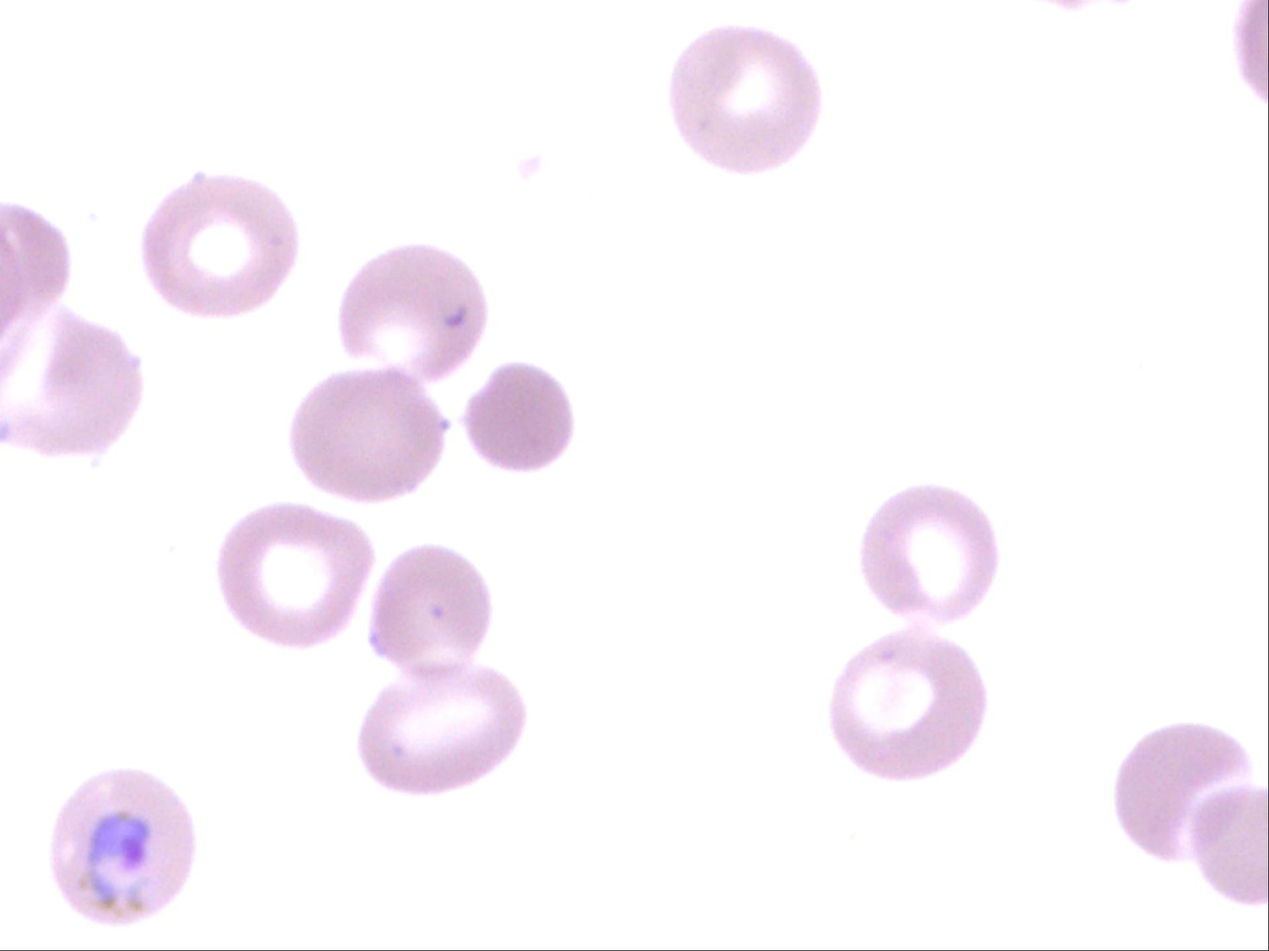Infected: (44, 767, 195, 924)
Uninfected: (833, 631, 986, 784), (670, 25, 815, 179), (141, 179, 295, 320), (214, 510, 370, 649), (0, 314, 140, 468), (339, 245, 485, 390), (857, 485, 1000, 628), (357, 672, 524, 793), (1115, 721, 1256, 859), (291, 375, 439, 500), (372, 547, 491, 684), (463, 358, 583, 470)
